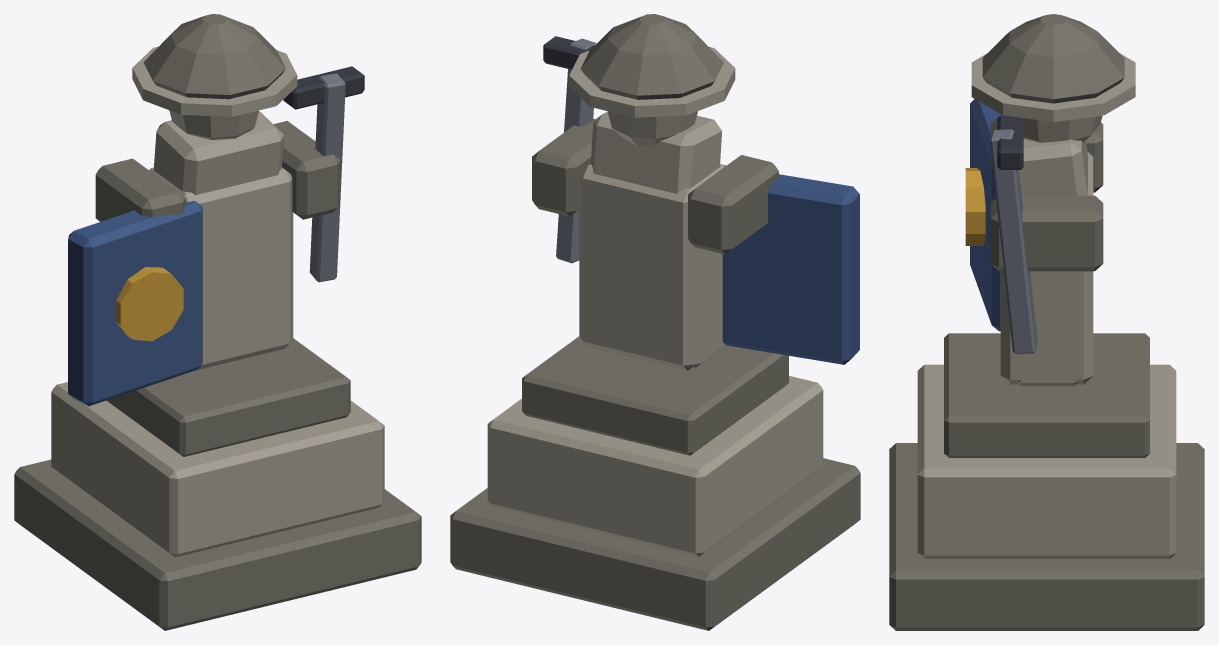
Rendered from statue.fbx.
The picture shows the model from 3 angles, left to right: view 1: azimuth 30°, elevation 25°; view 2: azimuth 150°, elevation 25°; view 3: azimuth 270°, elevation 25°; orthographic projection. The views are drawn at different scales.
Visible parts, largest first — view 1: statue; view 2: statue; view 3: statue.
Part boxes in pixels (box(x1,y1,x2,y2)): statue: box(14, 14, 421, 630); statue: box(450, 14, 860, 630); statue: box(889, 14, 1204, 630).
Size of the model in its own units: 110 by 182 by 95.
